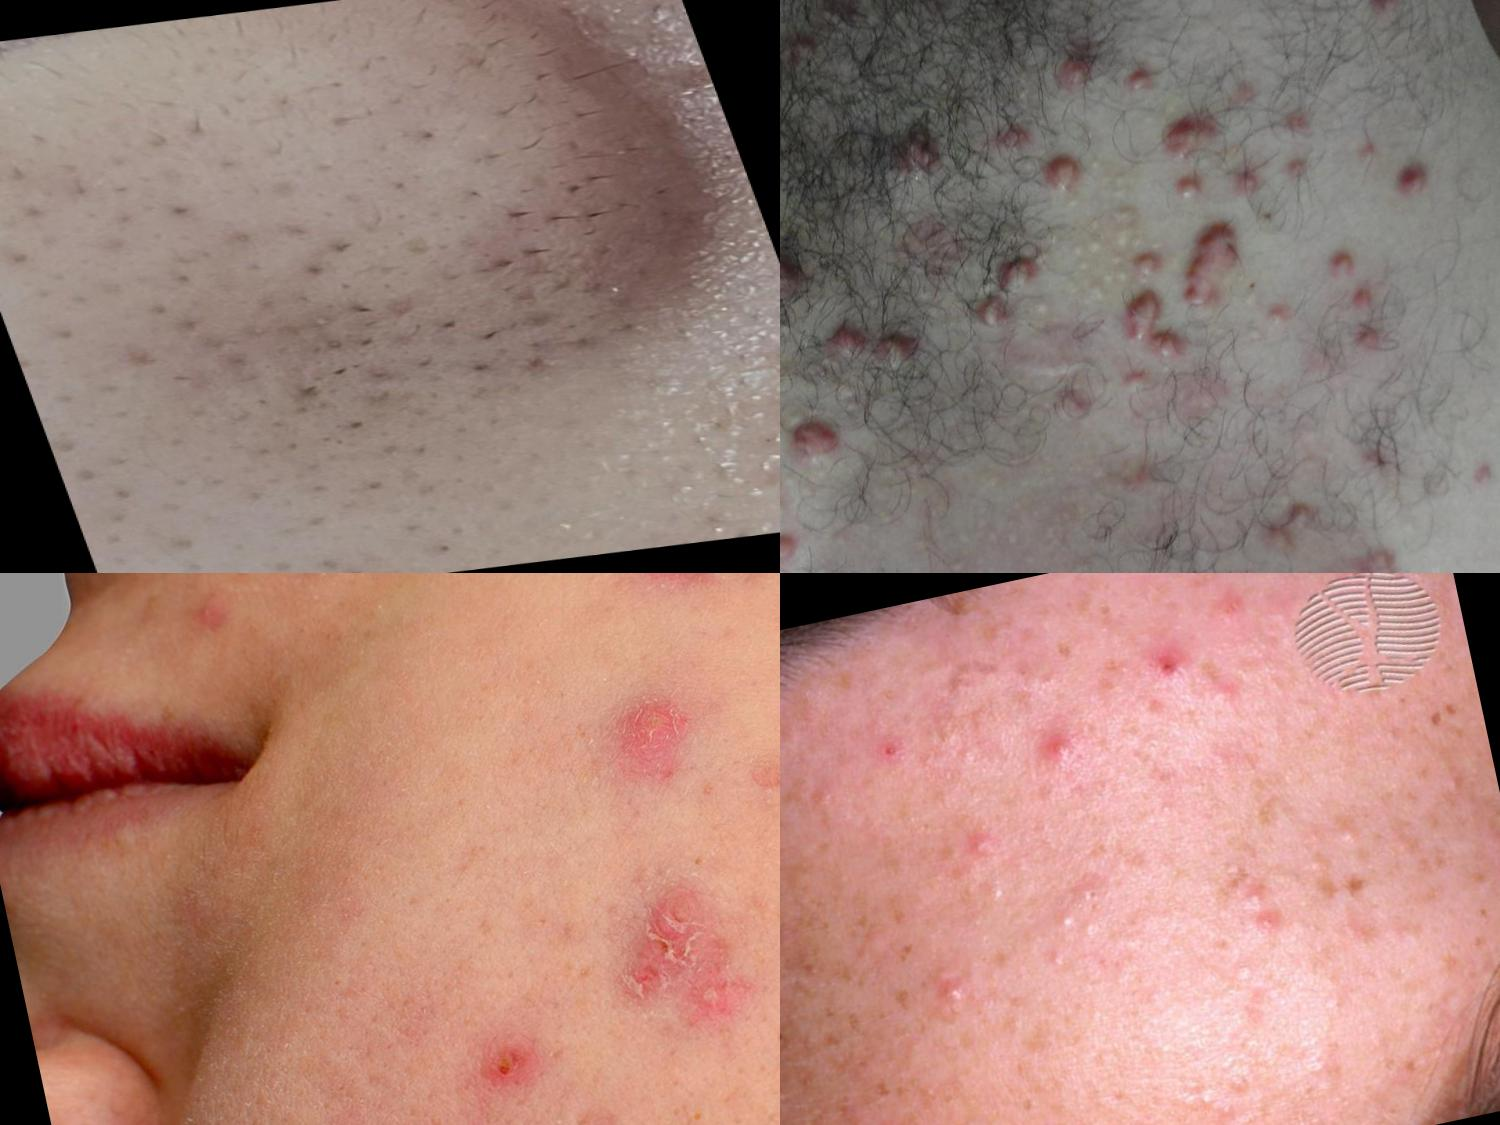blackhead: (209, 310, 484, 441), (497, 324, 617, 390), (400, 516, 480, 571), (1002, 648, 1039, 697)
keloid: (943, 240, 1067, 356), (1157, 206, 1261, 323), (1041, 30, 1174, 121), (1110, 277, 1208, 395), (1317, 239, 1396, 363), (819, 308, 927, 389), (781, 191, 824, 337), (1142, 102, 1232, 171), (1372, 144, 1448, 217), (781, 405, 852, 477), (1029, 147, 1087, 204), (781, 522, 817, 574)
papular: (1205, 655, 1258, 715), (1323, 796, 1369, 854), (1241, 905, 1287, 952), (870, 730, 919, 774), (1150, 645, 1185, 690), (1042, 905, 1081, 939), (1072, 876, 1106, 912), (976, 877, 1015, 908)
purulent: (598, 869, 719, 1017), (588, 661, 694, 787), (673, 960, 767, 1043), (1032, 718, 1082, 765), (927, 968, 972, 1012), (959, 822, 999, 869)
whitehead: (1434, 754, 1479, 804)
